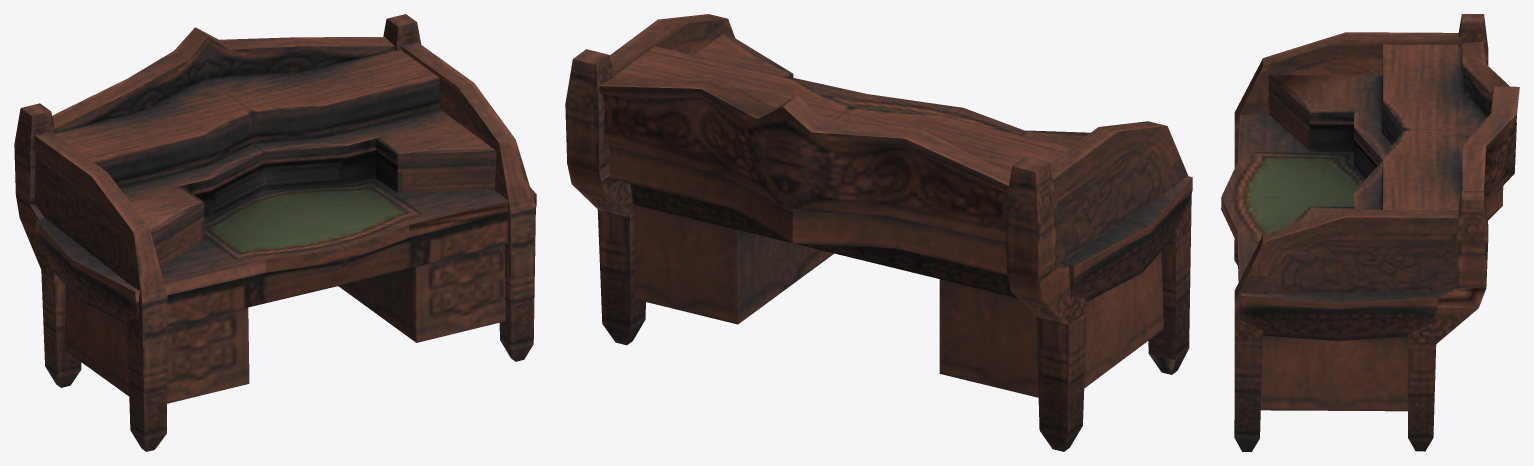
The model's file is d_sg_shouyou_zhuozi04_qt.FBX.
The picture shows the model from 3 angles, left to right: view 1: azimuth 30°, elevation 25°; view 2: azimuth 150°, elevation 25°; view 3: azimuth 270°, elevation 25°; orthographic projection. The views are drawn at different scales.
Visible parts, largest first — view 1: d_sg_shouyou_louti01_qt; view 2: d_sg_shouyou_louti01_qt; view 3: d_sg_shouyou_louti01_qt.
Part boxes in pixels (<box>): d_sg_shouyou_louti01_qt: <box>14,14,536,451</box>; d_sg_shouyou_louti01_qt: <box>565,14,1192,451</box>; d_sg_shouyou_louti01_qt: <box>1221,14,1519,451</box>.
Bounding box in the file's own units: 3.09 × 1.9 × 1.88.
